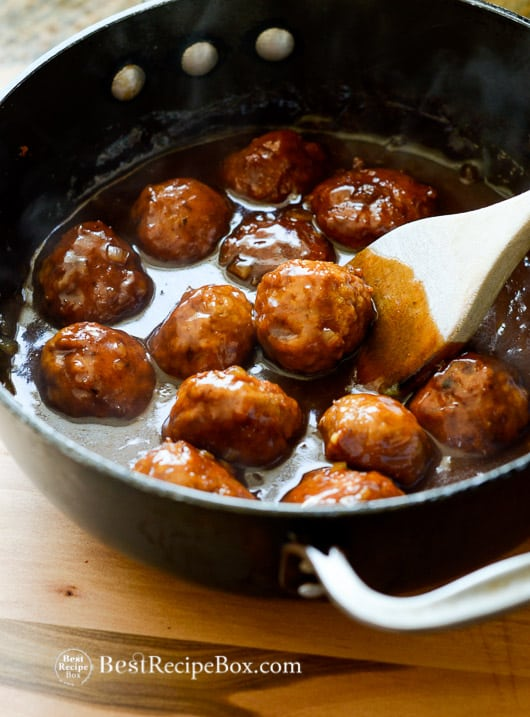meatballs: (250, 260, 374, 371), (416, 360, 530, 452), (178, 369, 290, 457), (41, 327, 144, 413), (44, 230, 139, 317), (318, 169, 424, 243), (322, 394, 426, 469), (159, 285, 250, 369), (231, 129, 311, 206), (236, 217, 331, 279), (138, 187, 218, 247)
